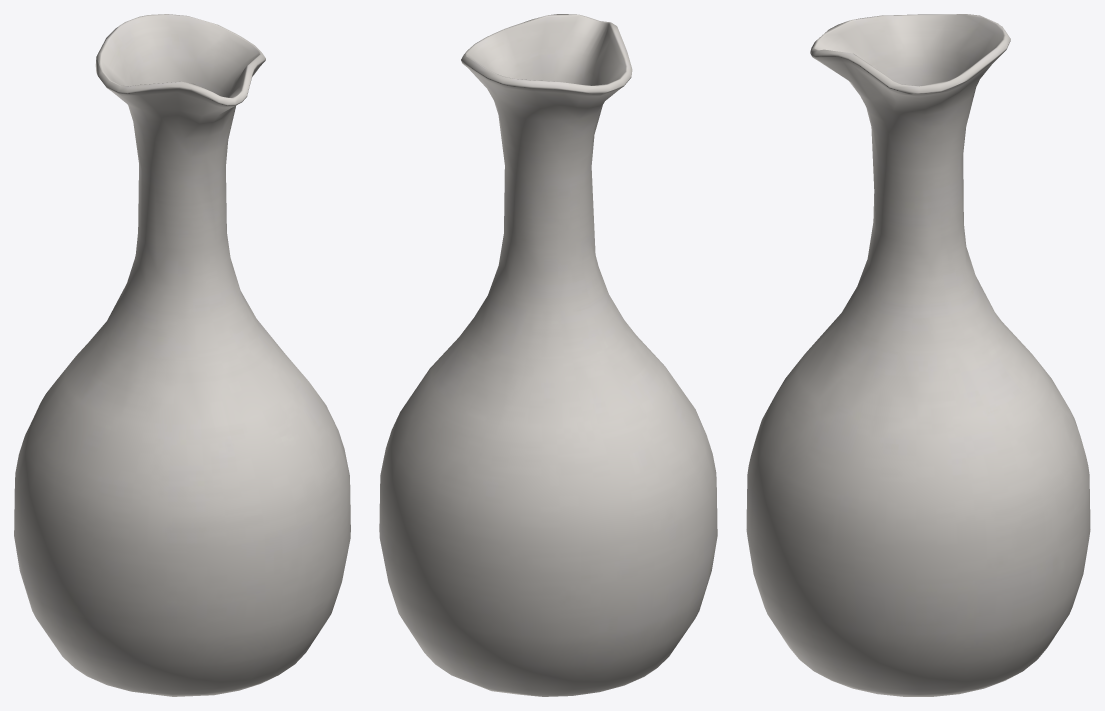
3 renders of one model, left to right at view 1: azimuth 30°, elevation 25°; view 2: azimuth 150°, elevation 25°; view 3: azimuth 270°, elevation 25°, orthographic. The views are drawn at different scales.
Parts seen in each view (by area): view 1: ceramic_vase_01; view 2: ceramic_vase_01; view 3: ceramic_vase_01.
Boxes of the visible parts, x1=… form: ceramic_vase_01: x1=14, y1=14, x2=350, y2=696; ceramic_vase_01: x1=379, y1=14, x2=717, y2=696; ceramic_vase_01: x1=746, y1=14, x2=1090, y2=696.
Size of the model in its own units: 0.2026 by 0.4003 by 0.2026.
Materials: 1 (1 with a texture image).
